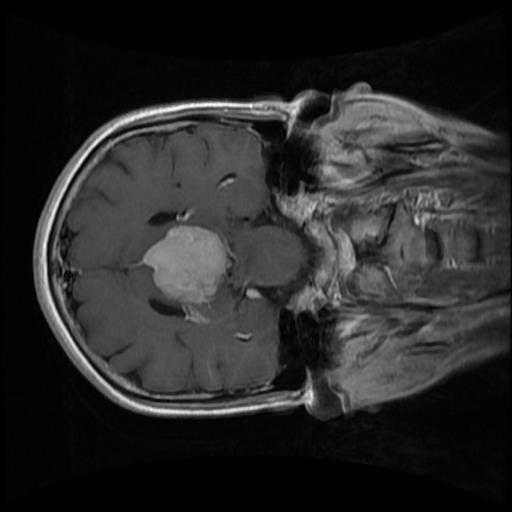meningioma: (142, 223, 230, 304)
